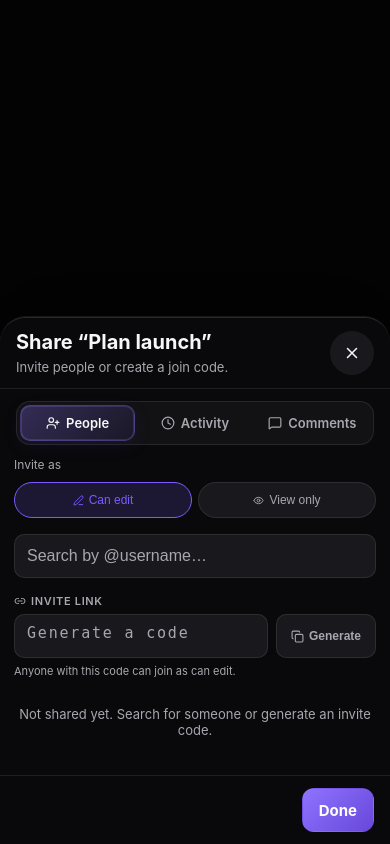
Scenario: a failed share action is visible instead of looking like a dead click
Type "dimon" into the field with placeholder "Search by @username…" at {"x": 195, "y": 556}, box [14, 534, 376, 578]
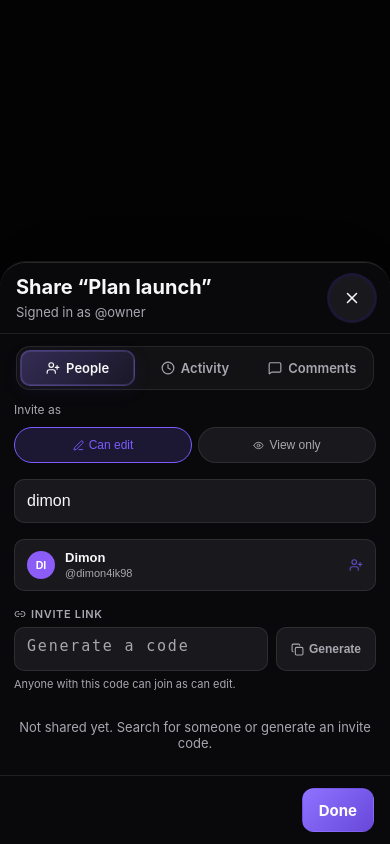
Click the button "DI Dimon @dimon4ik98" at {"x": 85, "y": 558}, box [15, 540, 375, 590]
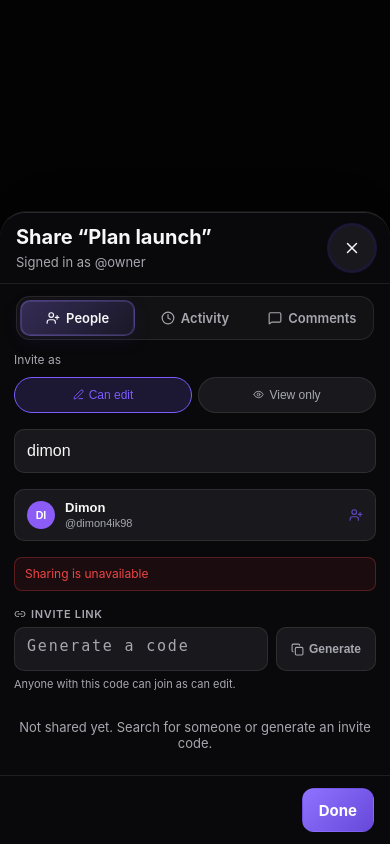
Expected: the message reads "Sharing is unavailable", [25, 566, 148, 581]
